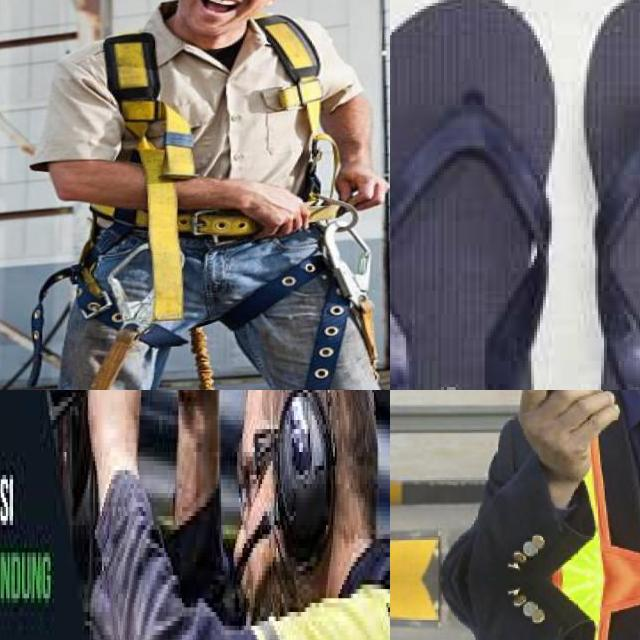Ear-protection: (269, 390, 339, 575)
Harness: (91, 32, 259, 306), (256, 15, 339, 202)
Sandals: (390, 0, 640, 390)
hand_noglove: (518, 390, 618, 508)
